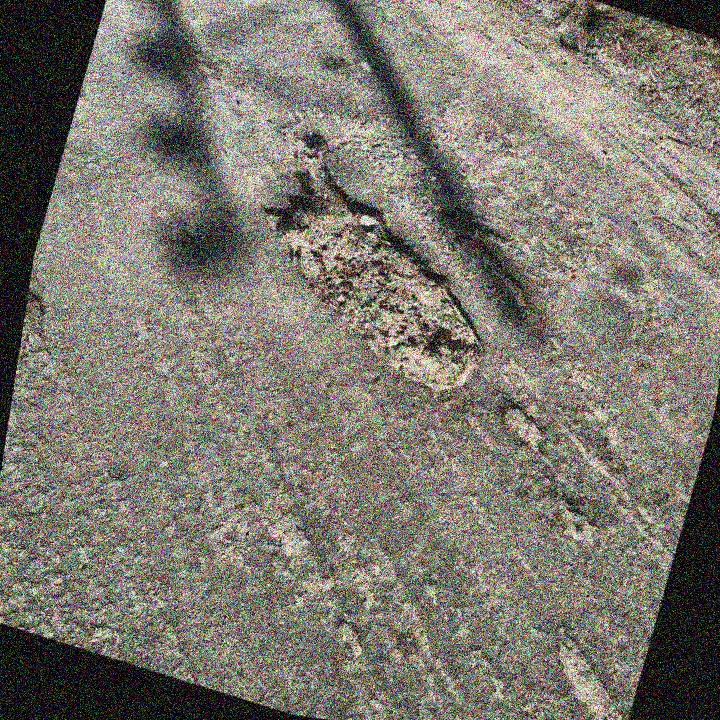pothole: (221, 114, 531, 409), (415, 196, 555, 319), (524, 616, 651, 720), (485, 391, 561, 456), (15, 284, 58, 387)
